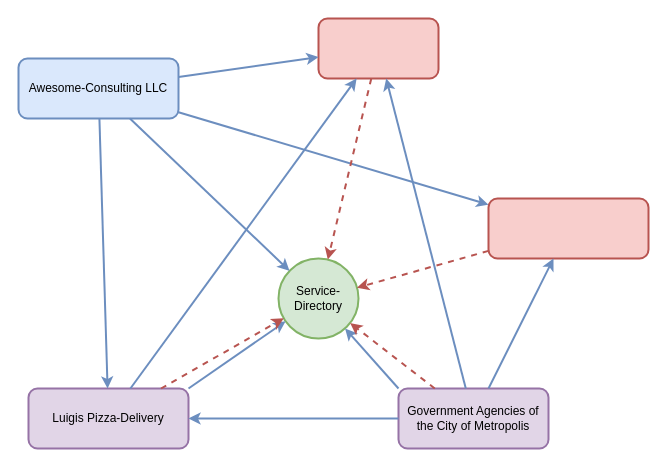
This 666x466 diagram has some shape labels left out. The box of each missing label's shape, as (x1, y1, x2, y2) in pixels:
Car-Sharing-Platform Supershare: (487, 197, 649, 259)
Metropolis Public-Transport-Provider: (317, 17, 439, 79)
